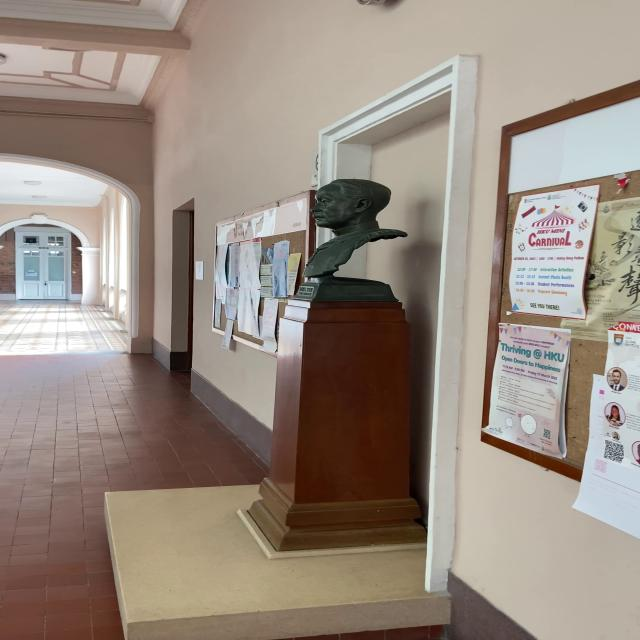statues: (278, 175, 415, 312)
